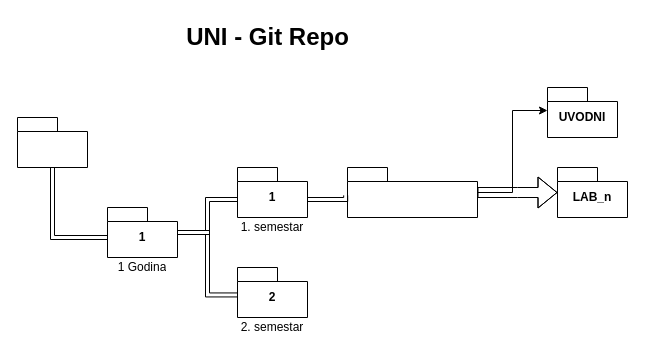
The diagram is 645 pixels wide and 354 high, and some of its shapes have lost their labels. Here are the shapes that lost their labels. From the top down, the centre of each, then its label:
At point (52, 142): "UNI".
At point (412, 192): "PROGRAMIRANJE_1".
